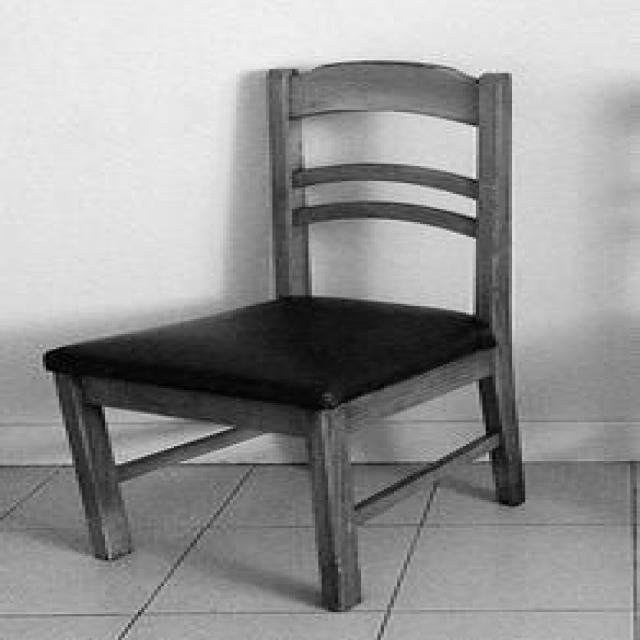chair: (41, 60, 550, 612)
